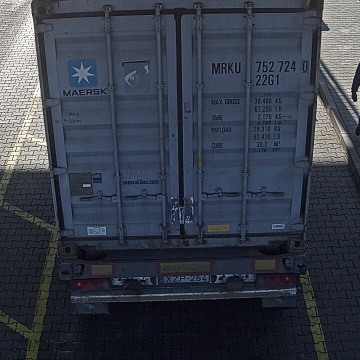serial_id: (210, 60, 309, 74)
